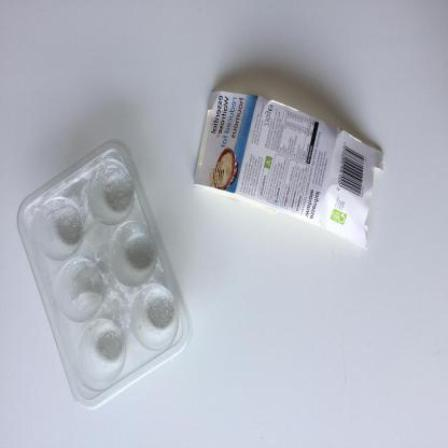Carton: (195, 91, 385, 250)
Plastic container: (17, 140, 194, 411)
